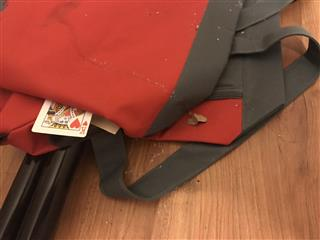KingOfHearts: (30, 99, 92, 137)
